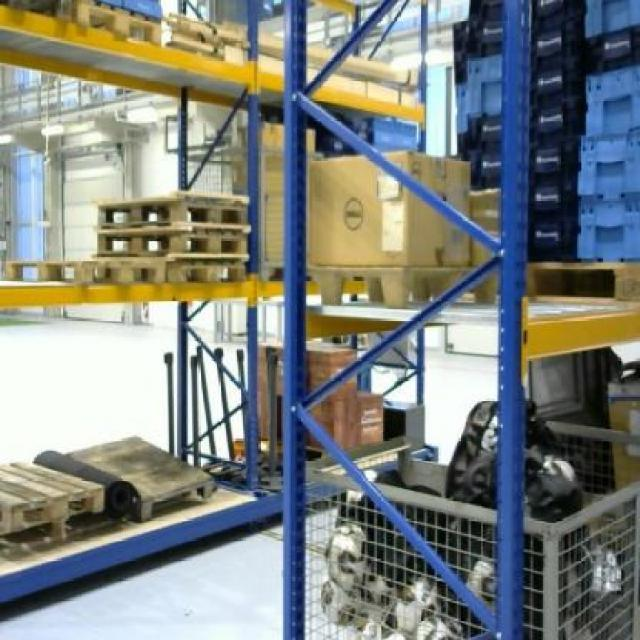box: (306, 150, 469, 266)
